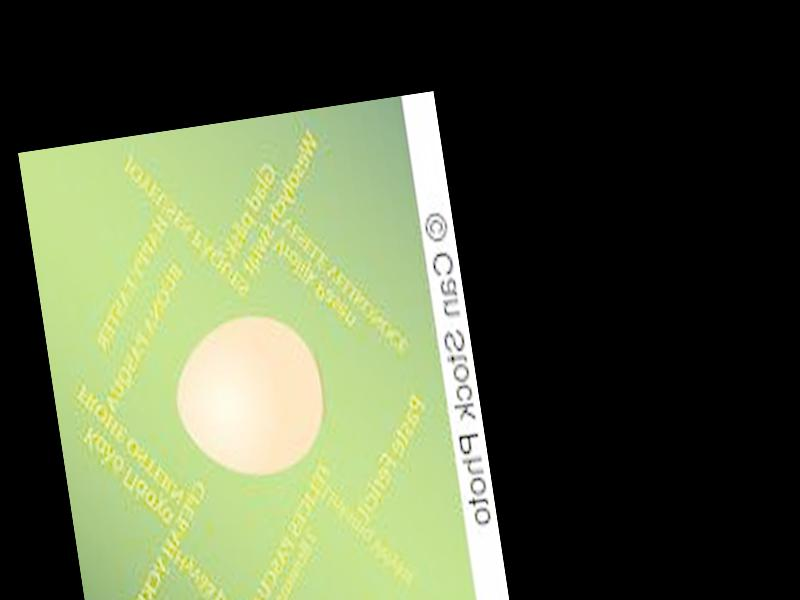Eggs: (166, 308, 332, 483)
